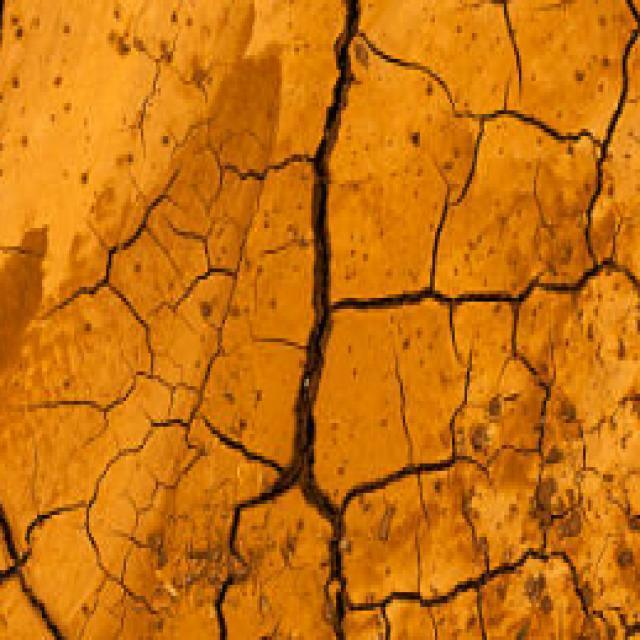network cracks: (0, 0, 639, 639), (491, 0, 525, 102)
